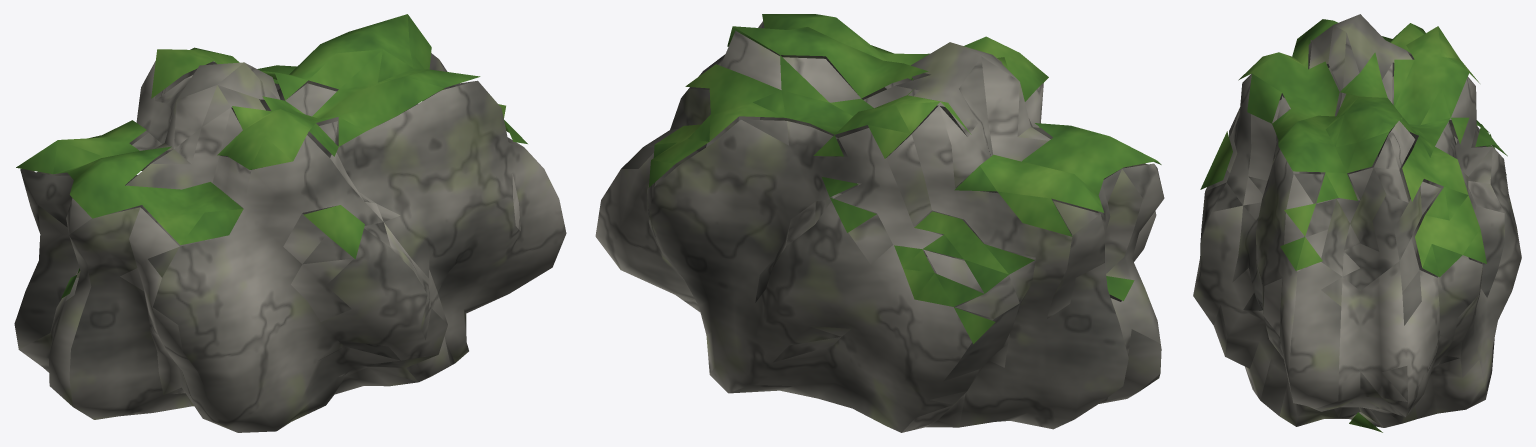
File: taiga_rock.glb
3 views of the same model, side by side, from view 1: azimuth 30°, elevation 25°; view 2: azimuth 150°, elevation 25°; view 3: azimuth 270°, elevation 25° (orthographic). The views are drawn at different scales.
Visible parts, largest first — view 1: rock, moss; view 2: rock, moss; view 3: rock, moss.
Part boxes in pixels (x1,y1,x2,y2): rock: (14,53,566,432); moss: (16,14,527,298); rock: (595,21,1164,432); moss: (648,14,1161,343); rock: (1193,14,1521,427); moss: (1200,19,1507,432).
Size of the model in its own units: 2.77 by 1.68 by 1.63.
Materials: 2 (2 with a texture image).
